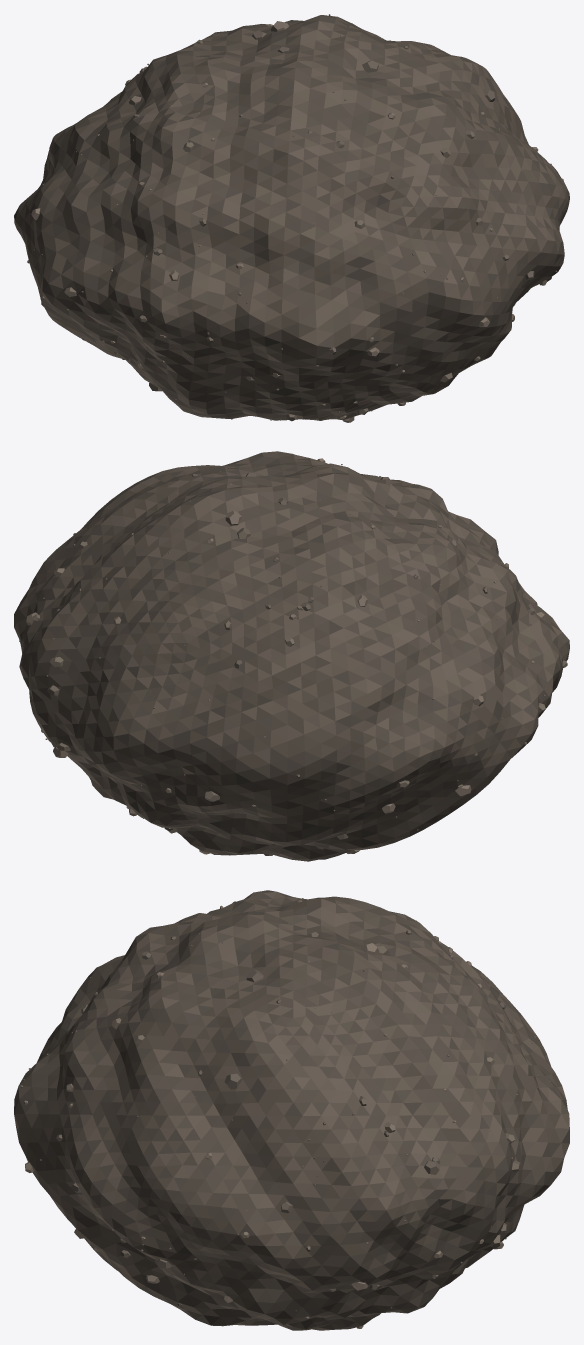
The model's file is didymos.glb.
3 views of the same model, one above another, from view 1: azimuth 30°, elevation 25°; view 2: azimuth 150°, elevation 25°; view 3: azimuth 270°, elevation 25° (orthographic). The views are drawn at different scales.
Visible parts, largest first — view 1: didymos.surface.mesh_Facet_colors, didymos.boulders.mesh_Regolith_5, didymos.boulders.mesh_Regolith_1, didymos.boulders.mesh_Regolith_2, didymos.boulders.mesh_Regolith_4; view 2: didymos.surface.mesh_Facet_colors, didymos.boulders.mesh_Regolith_4, didymos.boulders.mesh_Regolith_1, didymos.boulders.mesh_Regolith_3, didymos.boulders.mesh_Regolith_5, didymos.boulders.mesh_Regolith_2; view 3: didymos.surface.mesh_Facet_colors, didymos.boulders.mesh_Regolith_1, didymos.boulders.mesh_Regolith_5, didymos.boulders.mesh_Regolith_3, didymos.boulders.mesh_Regolith_2.
Part boxes in pixels (x1=…): didymos.surface.mesh_Facet_colors: x1=14, y1=15, x2=569, y2=420; didymos.boulders.mesh_Regolith_5: x1=82, y1=14, x2=534, y2=414; didymos.boulders.mesh_Regolith_1: x1=27, y1=30, x2=557, y2=422; didymos.boulders.mesh_Regolith_2: x1=41, y1=35, x2=533, y2=419; didymos.boulders.mesh_Regolith_4: x1=31, y1=21, x2=522, y2=420; didymos.surface.mesh_Facet_colors: x1=14, y1=451, x2=569, y2=861; didymos.boulders.mesh_Regolith_4: x1=41, y1=458, x2=534, y2=853; didymos.boulders.mesh_Regolith_1: x1=26, y1=464, x2=567, y2=855; didymos.boulders.mesh_Regolith_3: x1=46, y1=502, x2=546, y2=854; didymos.boulders.mesh_Regolith_5: x1=53, y1=467, x2=534, y2=839; didymos.boulders.mesh_Regolith_2: x1=19, y1=466, x2=545, y2=849; didymos.surface.mesh_Facet_colors: x1=14, y1=890, x2=569, y2=1330; didymos.boulders.mesh_Regolith_1: x1=46, y1=930, x2=520, y2=1319; didymos.boulders.mesh_Regolith_5: x1=40, y1=923, x2=550, y2=1308; didymos.boulders.mesh_Regolith_3: x1=20, y1=898, x2=535, y2=1303; didymos.boulders.mesh_Regolith_2: x1=23, y1=901, x2=538, y2=1283.
Size of the model in its own units: 932 by 637 by 867.
